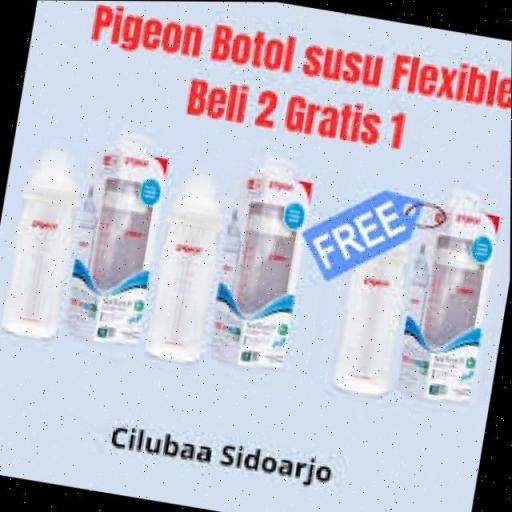plastic: (291, 194, 445, 422), (119, 158, 253, 375)
